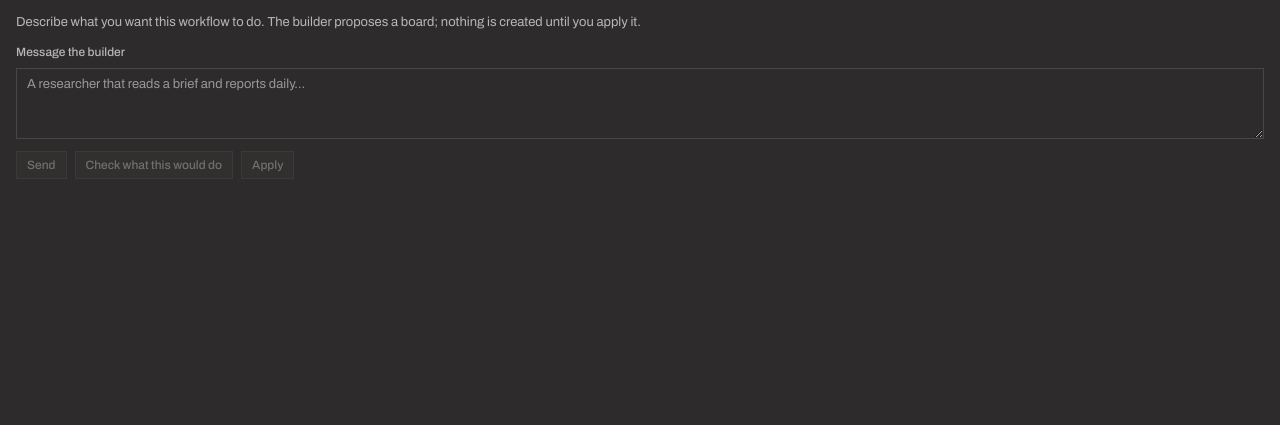
Test: BuilderPanel — plan, confirm, then apply › cannot apply until the server has been asked what it would do
Type "a researcher" into the text box with test id "builder-input" at (640, 104), box top-left (16, 68), bottom-right (1264, 139)
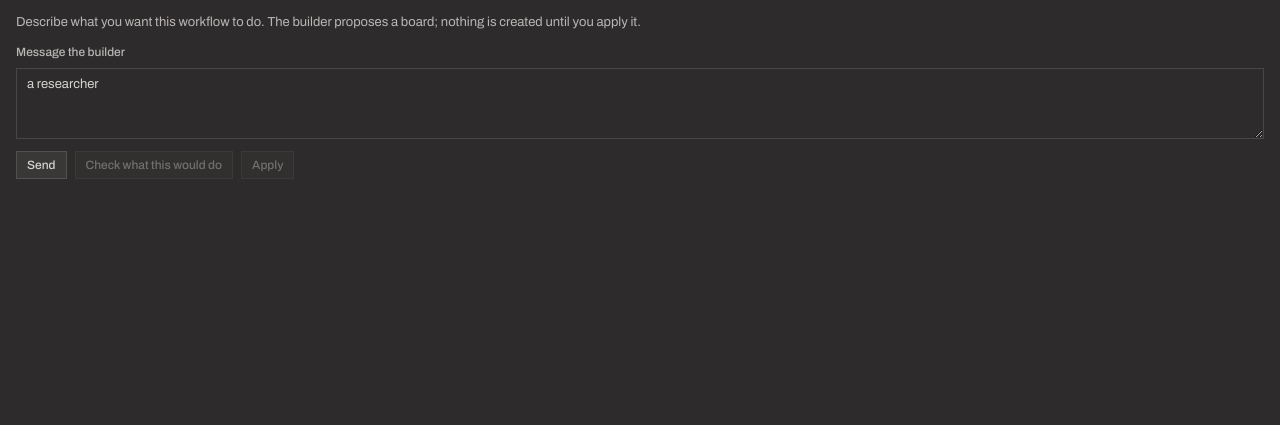
Click the button with test id "btn-builder-send" at (41, 165), box top-left (16, 151), bottom-right (66, 179)
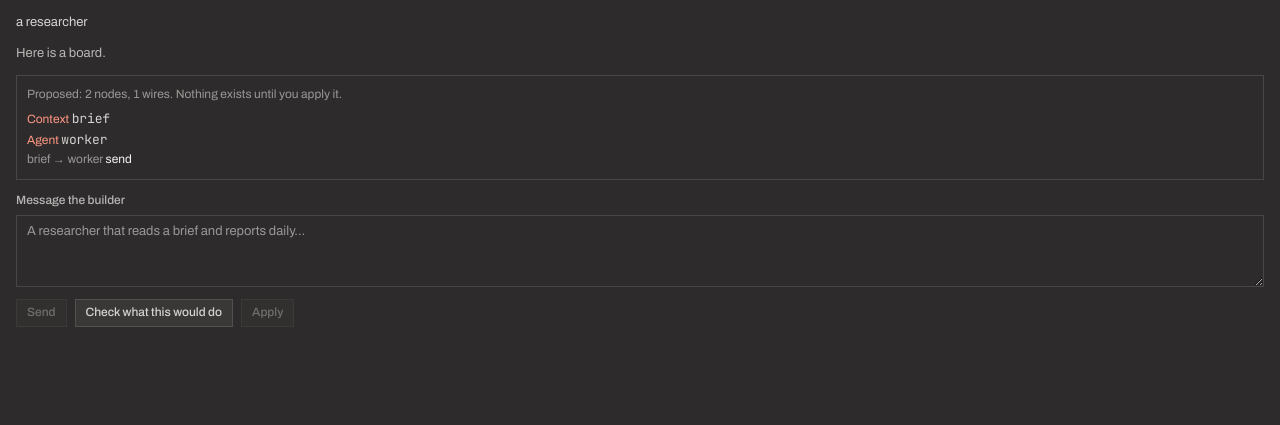
Expected: the button with test id "btn-builder-apply" is disabled, top-left (241, 299), bottom-right (294, 327)
Expected: the element with test id "builder-preview" is shown, top-left (16, 75), bottom-right (1264, 180)
Click the button with test id "btn-builder-preview" at (154, 313), box top-left (74, 299), bottom-right (233, 327)
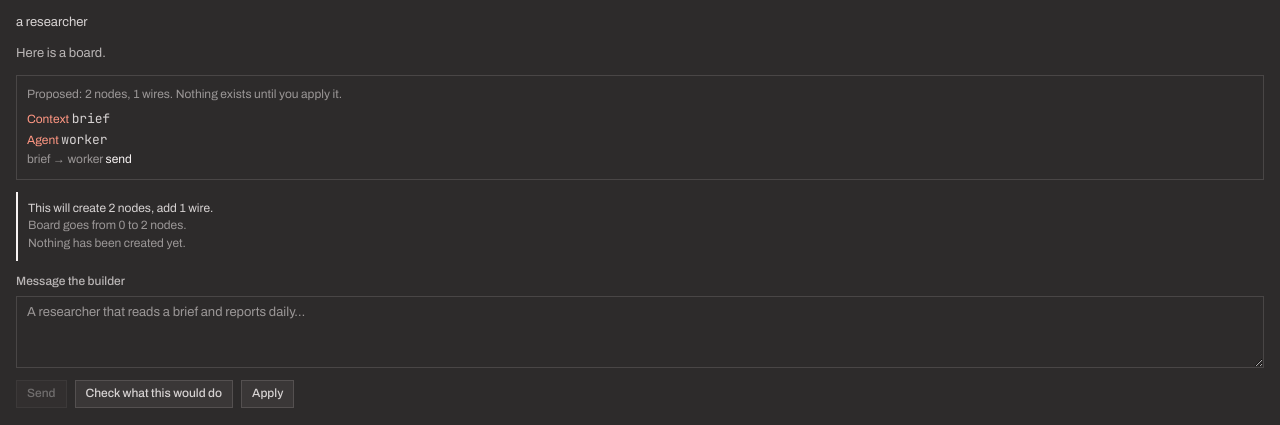
Expected: the element with test id "builder-plan" is shown, top-left (16, 192), bottom-right (1264, 261)
Expected: the element with test id "builder-plan" shows "create 2 nodes, add 1 wire", top-left (73, 201), bottom-right (210, 215)
Expected: the element with test id "builder-plan" shows "Nothing has been created yet", top-left (28, 236), bottom-right (186, 250)
